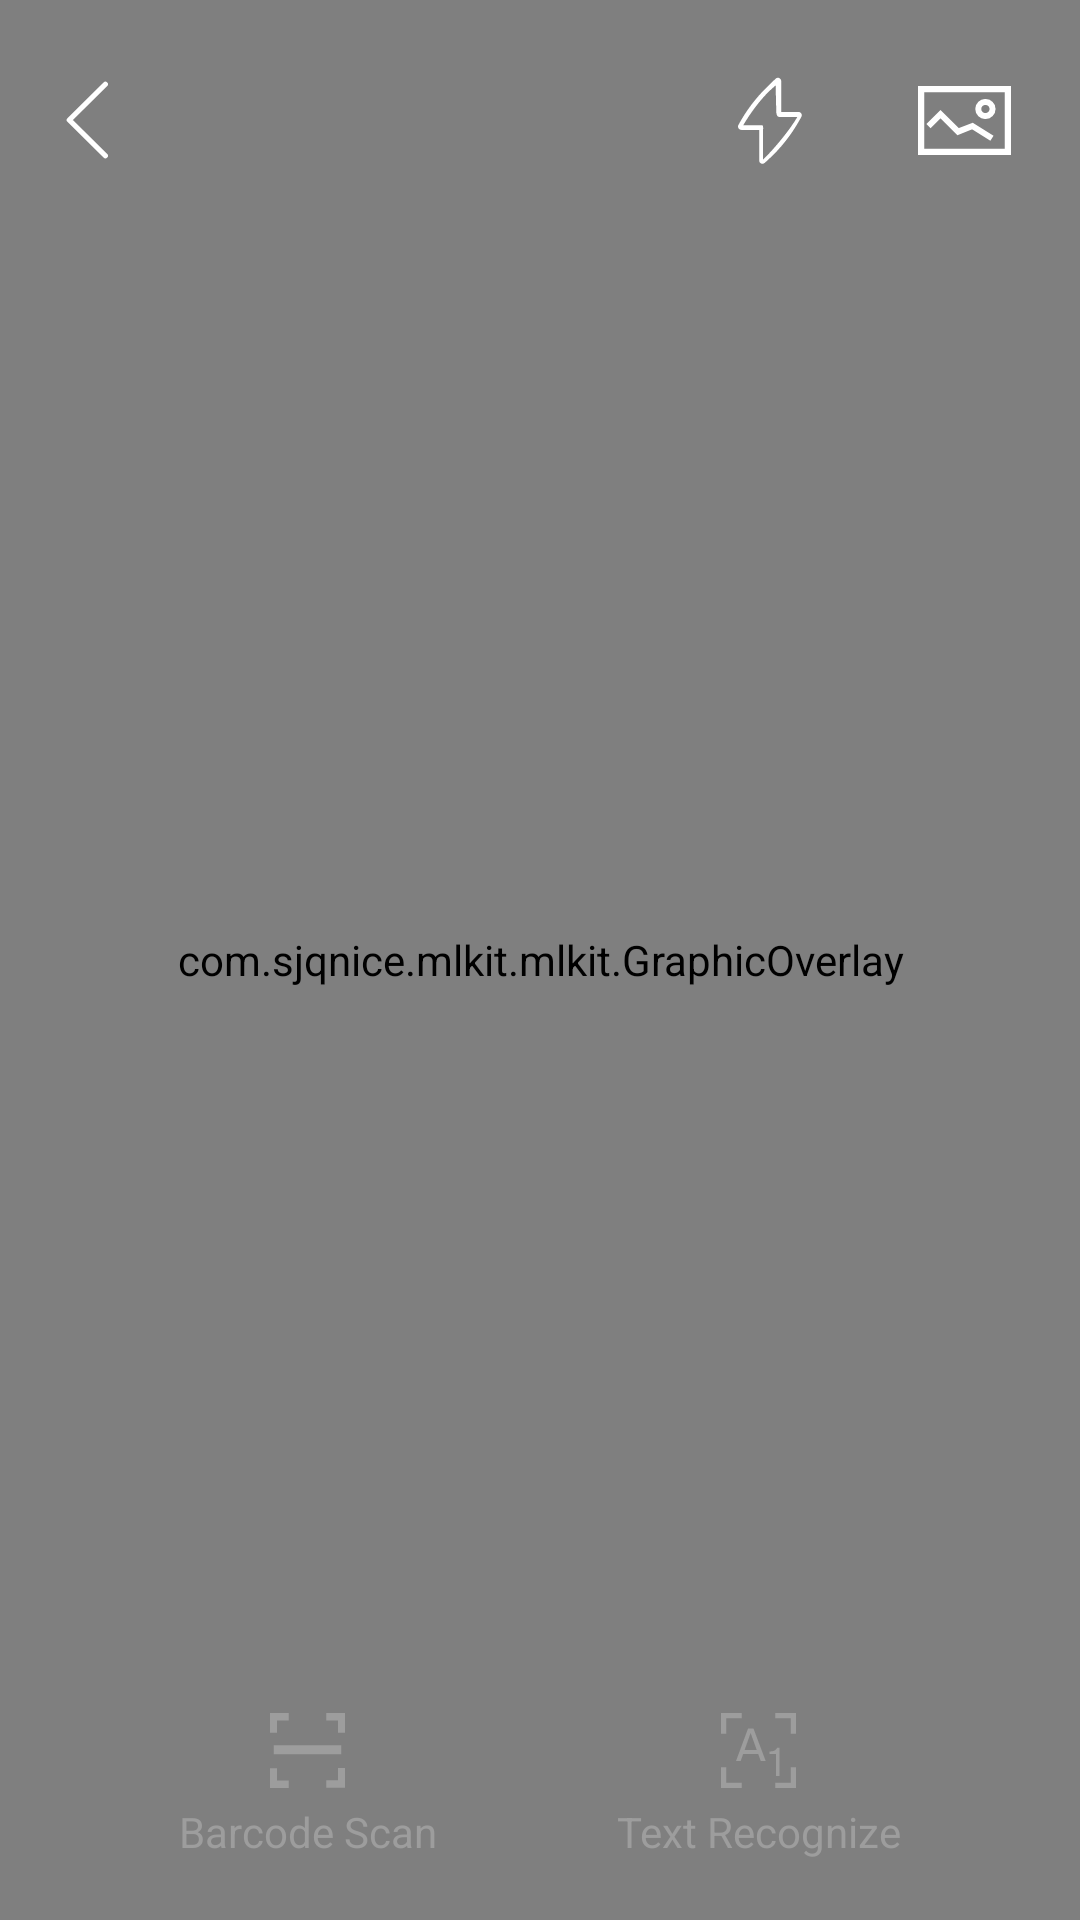

Where to tap for icons on this 1080px×1920px app screen, as point (x, y):
back: point (87, 120)
flash: point (770, 121)
